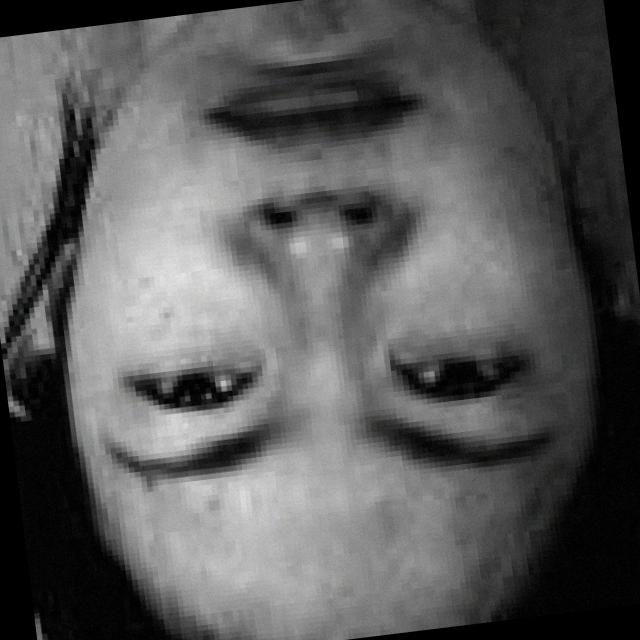disgust: (51, 0, 579, 626)
